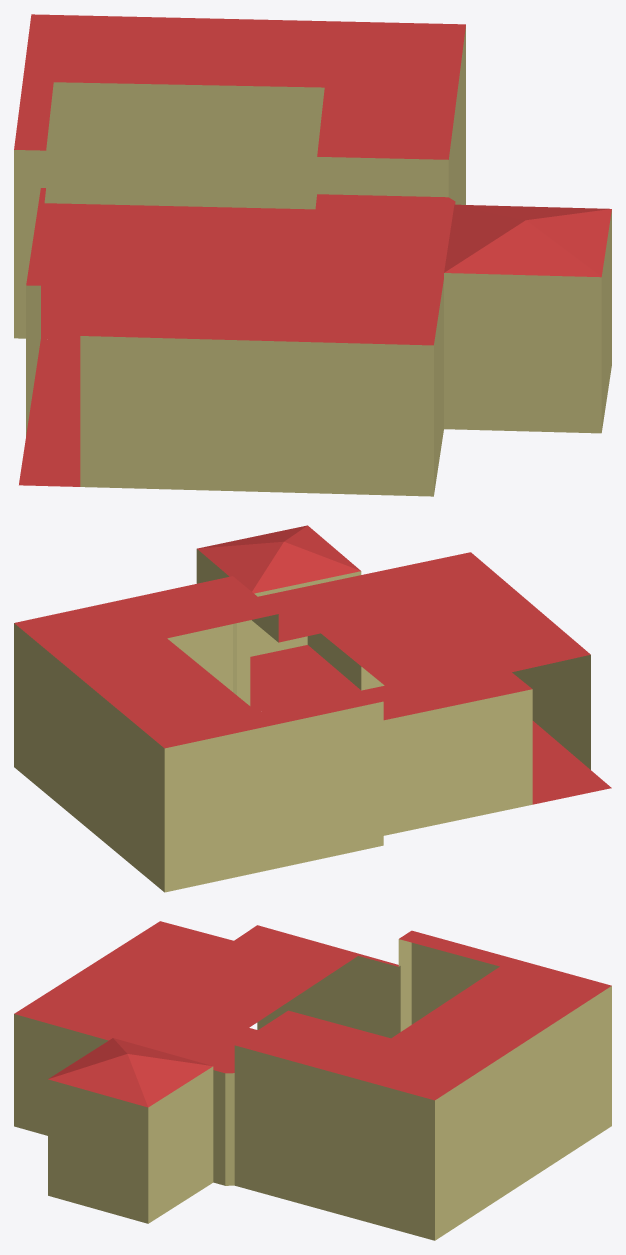
3 views of the same model, one above another, from view 1: azimuth 30°, elevation 25°; view 2: azimuth 150°, elevation 25°; view 3: azimuth 270°, elevation 25° (orthographic). The views are drawn at different scales.
Parts seen in each view (by area): view 1: group_10, group_9, group_7, group_6, group_4, group_3, group_11, group_8; view 2: group_7, group_9, group_10, group_6, group_3, group_5, group_11, group_4; view 3: group_7, group_9, group_6, group_4, group_10, group_3.
Part boxes in pixels (x1,y1,x2,y2): group_10: (26,202,455,496); group_9: (26,188,455,345); group_7: (14,26,465,338); group_6: (14,14,465,159); group_4: (444,210,611,433); group_3: (444,204,611,277); group_11: (19,339,80,486); group_8: (41,203,315,339); group_7: (14,614,383,892); group_9: (258,552,590,720); group_10: (233,620,590,835); group_6: (14,576,382,748); group_3: (197,525,360,593); group_5: (250,645,360,712); group_11: (258,685,611,804); group_4: (196,549,361,689); group_7: (234,939,611,1240); group_9: (14,921,398,1073); group_6: (235,930,611,1100); group_4: (48,1066,213,1223); group_10: (14,956,400,1185); group_3: (48,1038,212,1107).
Bounding box in the file's own units: 26.82 × 30.34 × 7.86.
